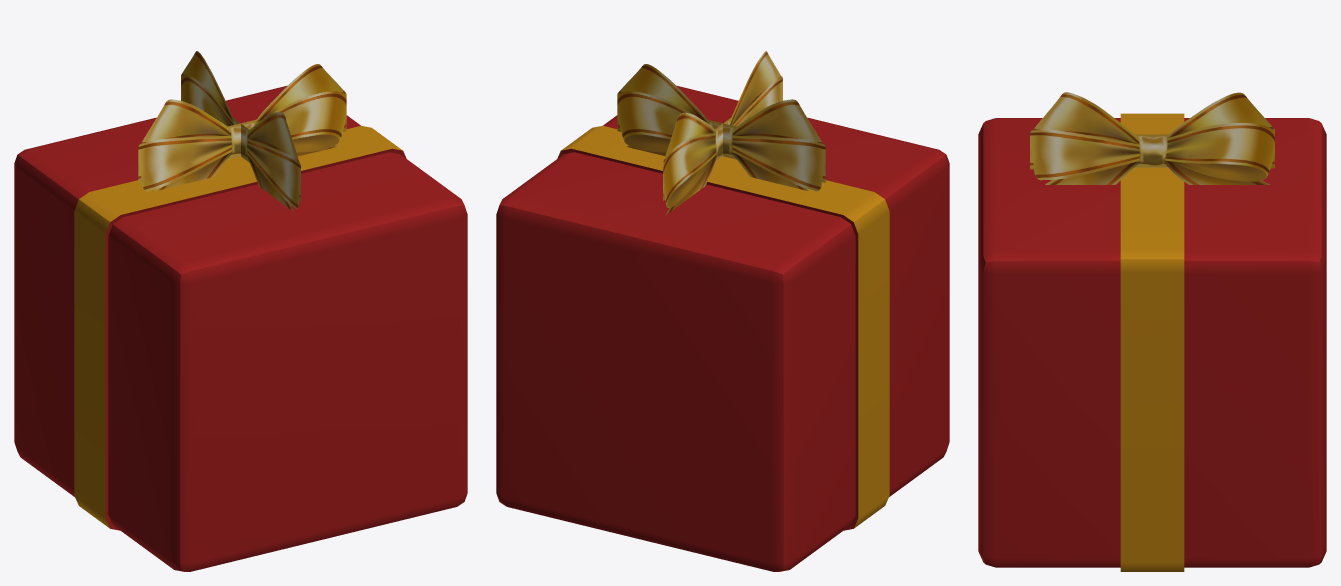
File: Gift_2.fbx
3 views of the same model, side by side, from view 1: azimuth 30°, elevation 25°; view 2: azimuth 150°, elevation 25°; view 3: azimuth 270°, elevation 25° (orthographic).
Visible parts, largest first — view 1: polySurface8, polySurface7, polySurface9; view 2: polySurface8, polySurface7, polySurface9; view 3: polySurface8, polySurface9.
Part boxes in pixels (box(x1,y1,x2,y2)): polySurface8: box(14, 85, 467, 571); polySurface7: box(138, 64, 346, 191); polySurface9: box(181, 51, 300, 211); polySurface8: box(496, 85, 949, 571); polySurface7: box(617, 64, 825, 191); polySurface9: box(663, 51, 782, 215); polySurface8: box(978, 113, 1326, 571); polySurface9: box(1030, 92, 1274, 184).
Bounding box in the file's own units: 50.83 × 66.95 × 49.85.
Materials: 2 (2 with a texture image).
